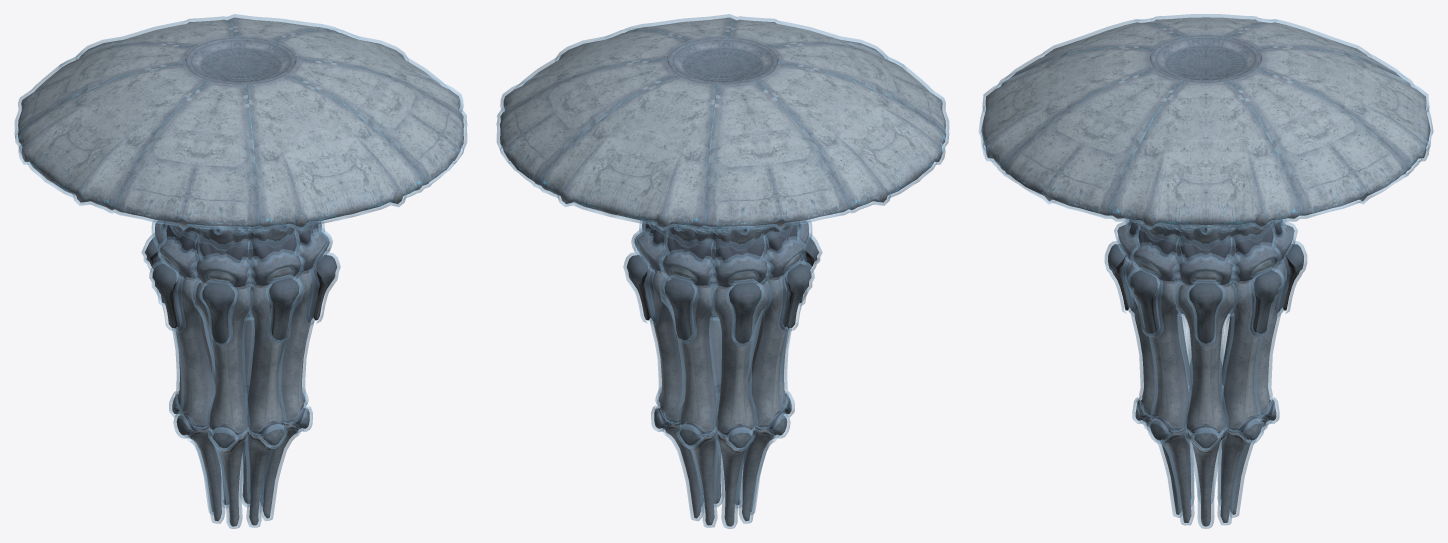
File: illuminate-overship.glb
3 views of the same model, side by side, from view 1: azimuth 30°, elevation 25°; view 2: azimuth 150°, elevation 25°; view 3: azimuth 270°, elevation 25° (orthographic).
Visible parts, largest first — view 1: shield_bubble, g_il_mothership; view 2: shield_bubble, g_il_mothership; view 3: shield_bubble, g_il_mothership.
Part boxes in pixels (left/top/right/bottom): shield_bubble: left=14, top=14, right=467, bottom=528; g_il_mothership: left=17, top=17, right=464, bottom=526; shield_bubble: left=496, top=14, right=949, bottom=528; g_il_mothership: left=499, top=17, right=946, bottom=526; shield_bubble: left=978, top=14, right=1433, bottom=528; g_il_mothership: left=981, top=17, right=1430, bottom=526.
Bounding box in the file's own units: 786 × 879 × 786.
Materials: 2 (1 with a texture image).
